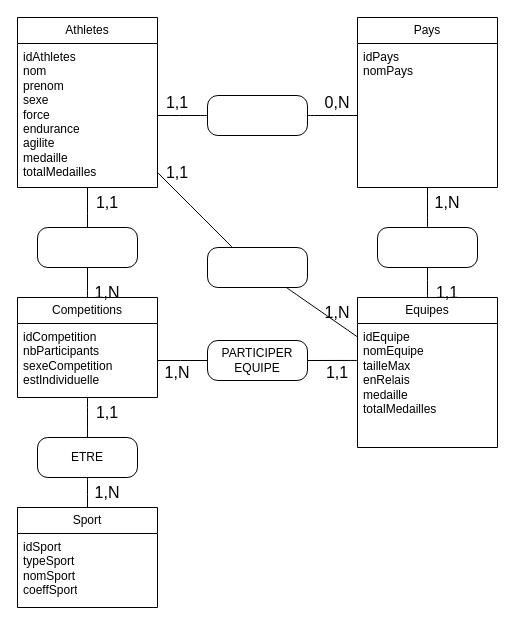
This 515x628 diagram has some shape labels left out. Here are the shapes that lost their labels. From the top down, the centre of each, then its label:
point 257,115: APPARTENIR
point 87,247: PARTICIPER ATHLETE
point 257,267: CONTENIR
point 427,247: POSSEDER
